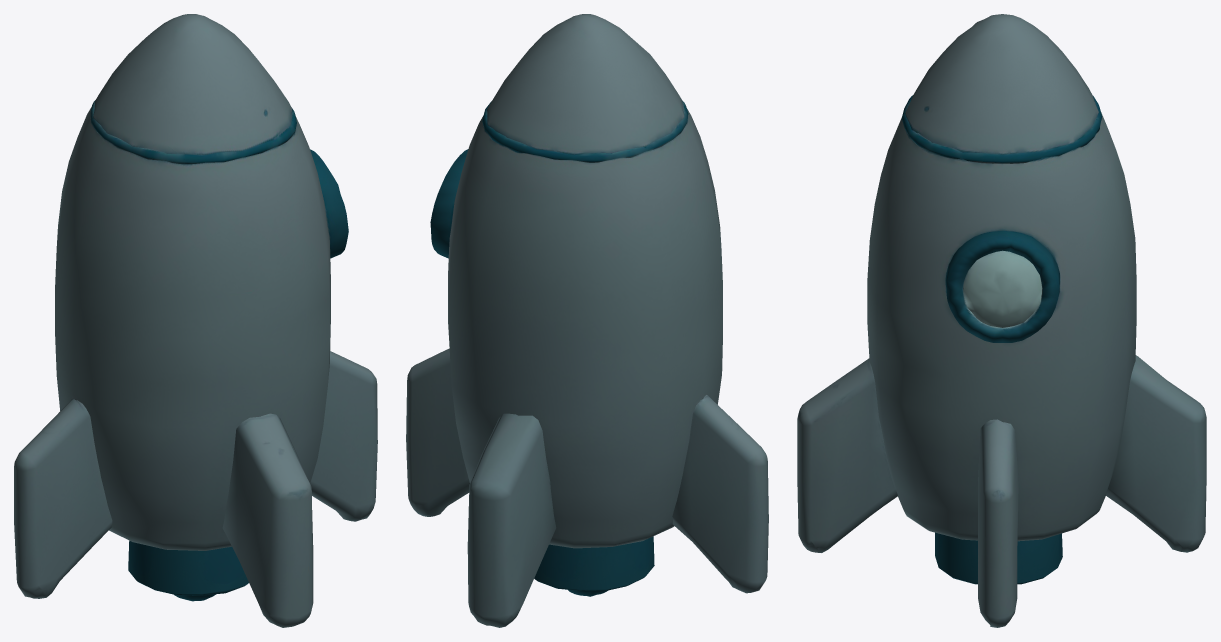
File: icon-rocket.glb
3 views of the same model, side by side, from view 1: azimuth 30°, elevation 25°; view 2: azimuth 150°, elevation 25°; view 3: azimuth 270°, elevation 25° (orthographic).
Visible parts, largest first — view 1: tripo_node_kodyurd-model-62____________________; view 2: tripo_node_kodyurd-model-62____________________; view 3: tripo_node_kodyurd-model-62____________________.
Part boxes in pixels (x1=…): tripo_node_kodyurd-model-62____________________: x1=14, y1=14, x2=377, y2=627; tripo_node_kodyurd-model-62____________________: x1=406, y1=14, x2=768, y2=627; tripo_node_kodyurd-model-62____________________: x1=797, y1=14, x2=1206, y2=627.
Bounding box in the file's own units: 0.6465 × 0.998 × 0.6504.
1 material, 1 textured.
